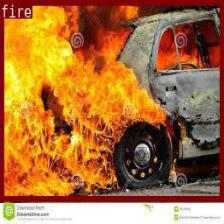fire: (0, 0, 222, 200)
